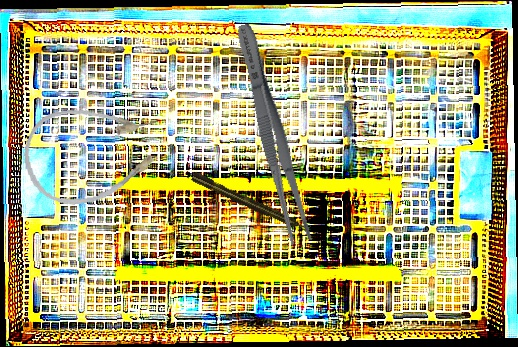Cannula: (17, 96, 169, 212)
Dressing Forceps: (229, 21, 316, 246)
Handpiece: (190, 170, 312, 236)
